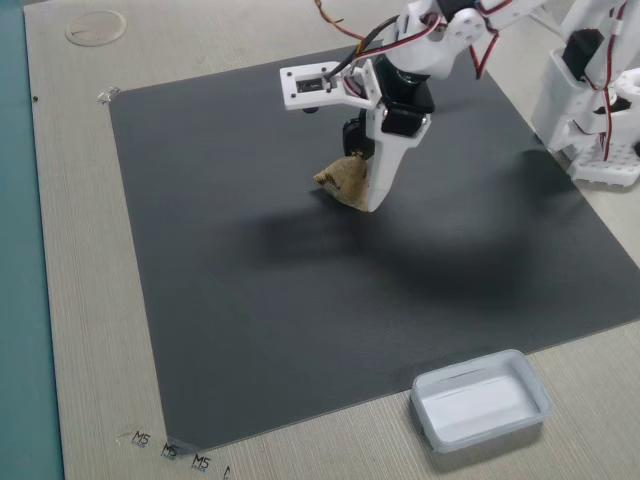gripper: (287, 51, 424, 166)
